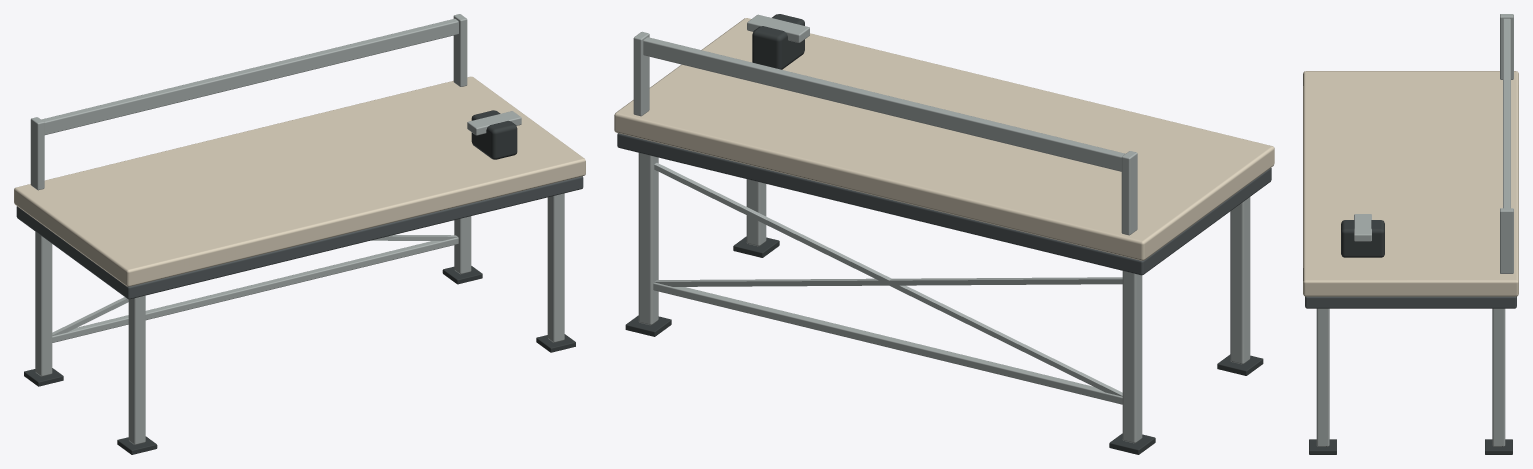
Rendered from museum-conservation-and-art-restoration-museum-conserv-4ba7ffe3__31905.glb.
3 renders of one model, left to right at view 1: azimuth 30°, elevation 25°; view 2: azimuth 150°, elevation 25°; view 3: azimuth 270°, elevation 25°, orthographic. The views are drawn at different scales.
Parts seen in each view (by area): view 1: museum-conservation-and-art-restoration-sculpture-mountmakin (×4); view 2: museum-conservation-and-art-restoration-sculpture-mountmakin (×4); view 3: museum-conservation-and-art-restoration-sculpture-mountmakin (×4).
Part boxes in pixels (x1,y1,x2,y2): museum-conservation-and-art-restoration-sculpture-mountmakin (×4): (14, 14, 585, 454); museum-conservation-and-art-restoration-sculpture-mountmakin (×4): (614, 14, 1274, 454); museum-conservation-and-art-restoration-sculpture-mountmakin (×4): (1303, 14, 1518, 454).
Bounding box in the file's own units: 2.5 × 1.33 × 1.08.
